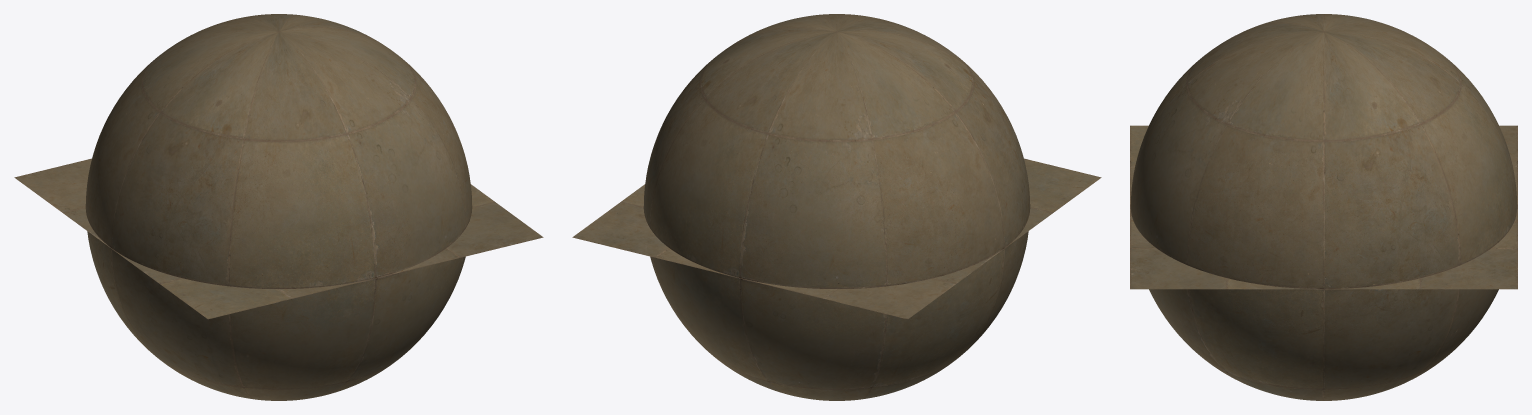
File: grey_tiles_2k.fbx
3 renders of one model, left to right at view 1: azimuth 30°, elevation 25°; view 2: azimuth 150°, elevation 25°; view 3: azimuth 270°, elevation 25°, orthographic.
Parts seen in each view (by area): view 1: Sphere, Plane; view 2: Sphere, Plane; view 3: Sphere, Plane.
Part boxes in pixels (<box>): Sphere: <box>85,14,472,400</box>; Plane: <box>14,158,543,319</box>; Sphere: <box>643,14,1030,400</box>; Plane: <box>572,158,1101,319</box>; Sphere: <box>1130,14,1517,400</box>; Plane: <box>1130,125,1517,289</box>.
Bounding box in the file's own units: 220 × 220 × 220.
